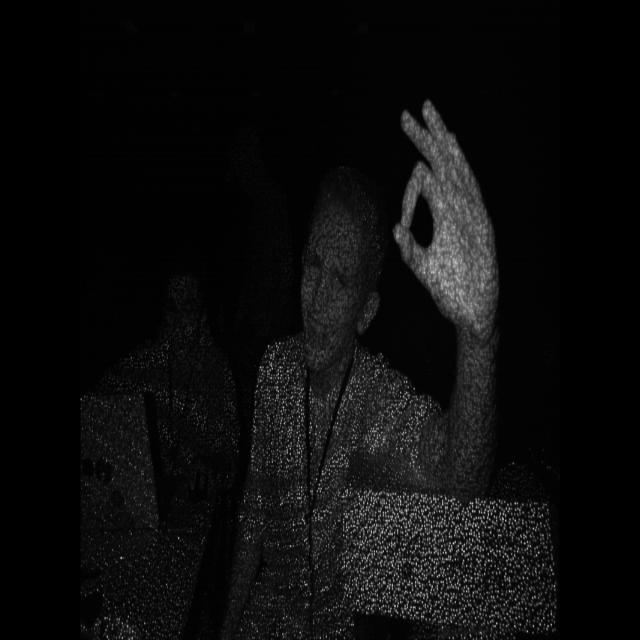F: (388, 86, 507, 392)
